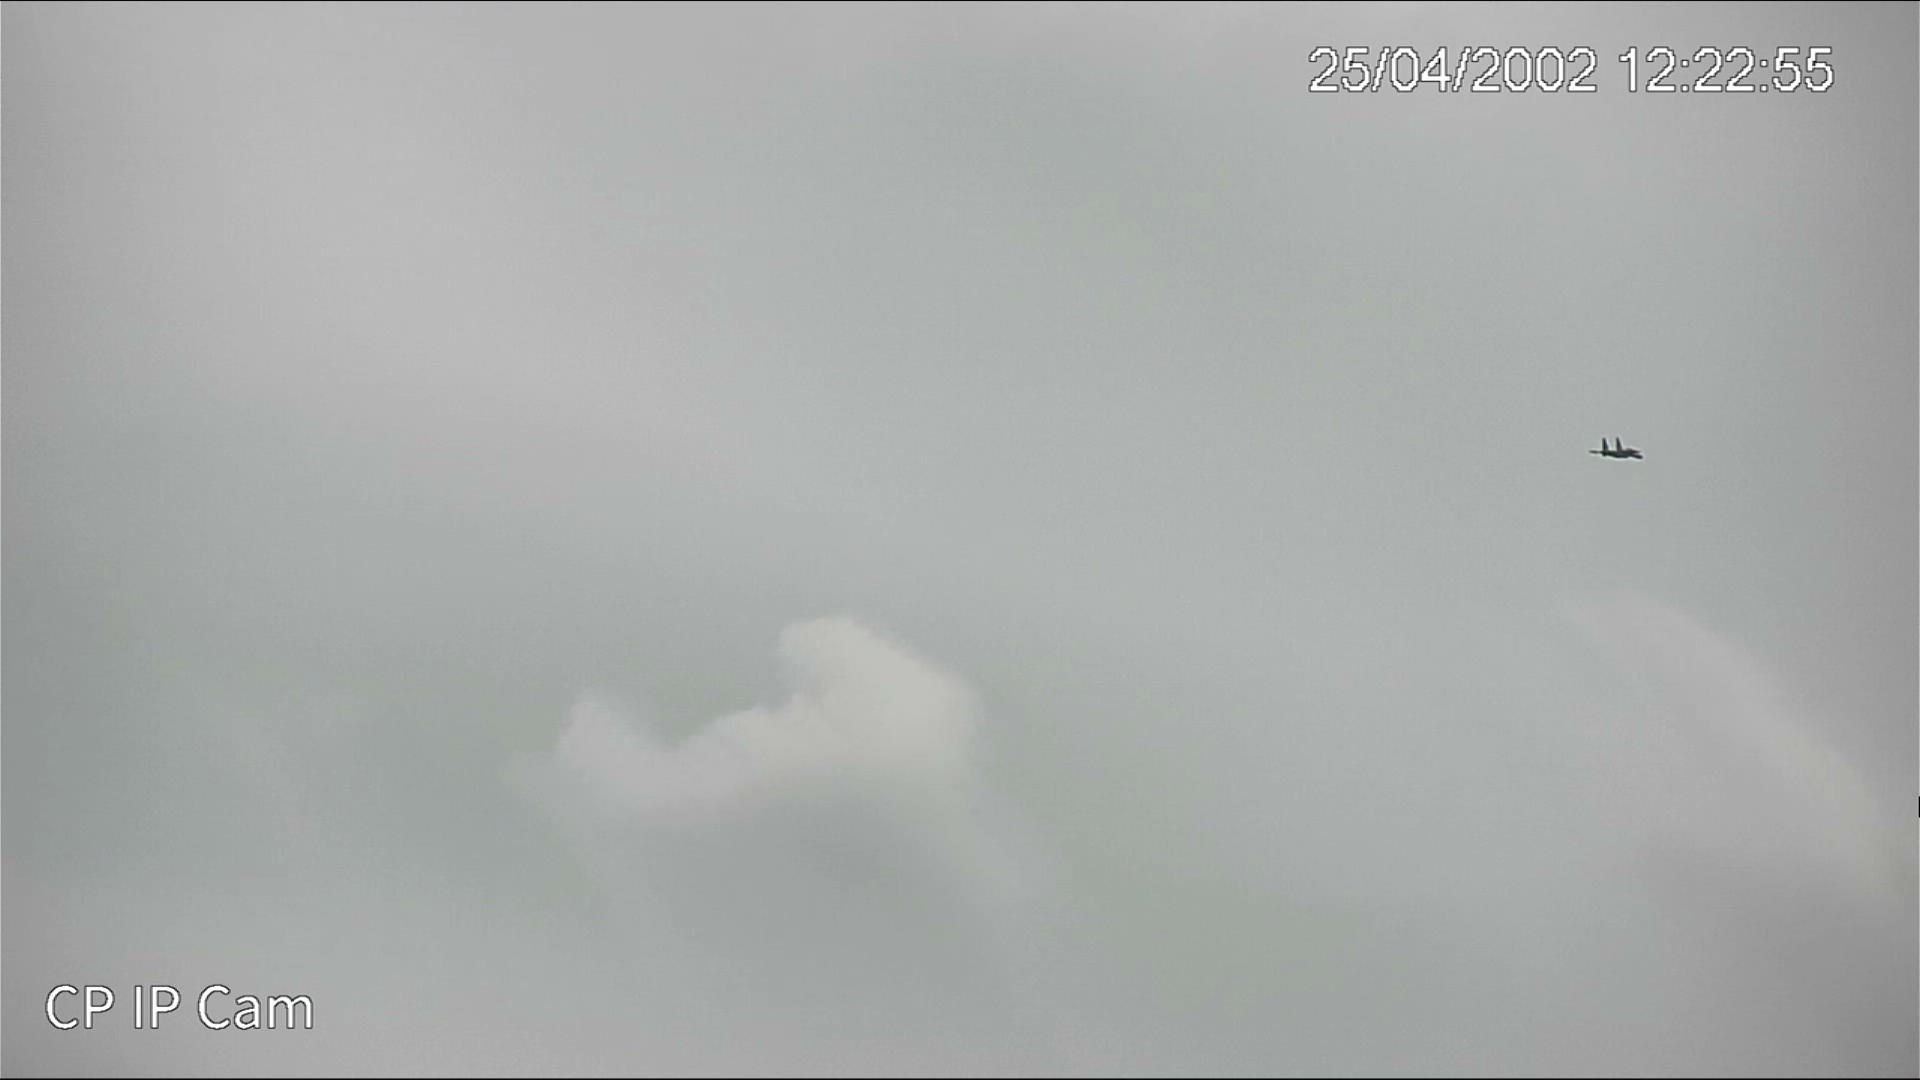SU_30: (1586, 436, 1644, 462)
